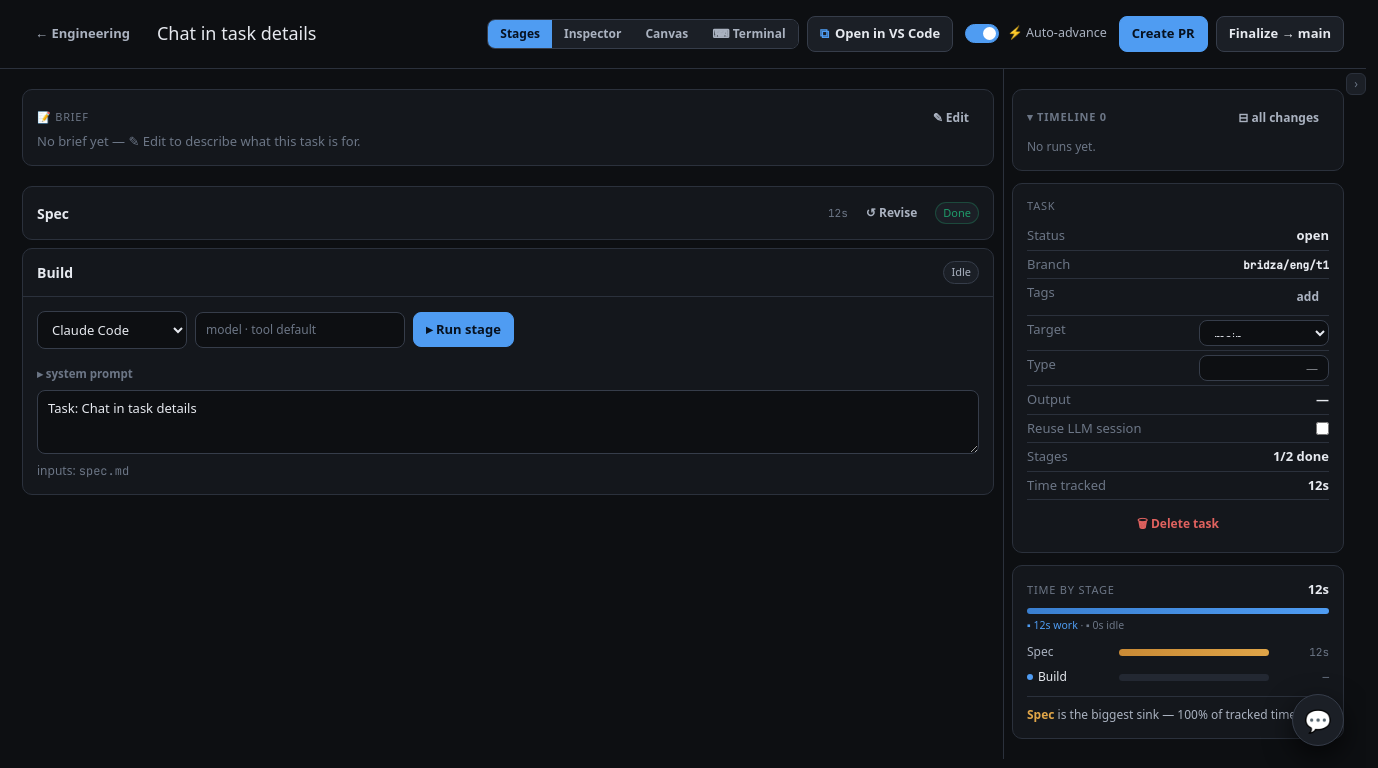
the entry point a non-technical person will find › closing it brings the details rail back, and remembers being open
Click the button with class "chat-bubble" at {"x": 1318, "y": 720}, box [1292,694,1344,746]
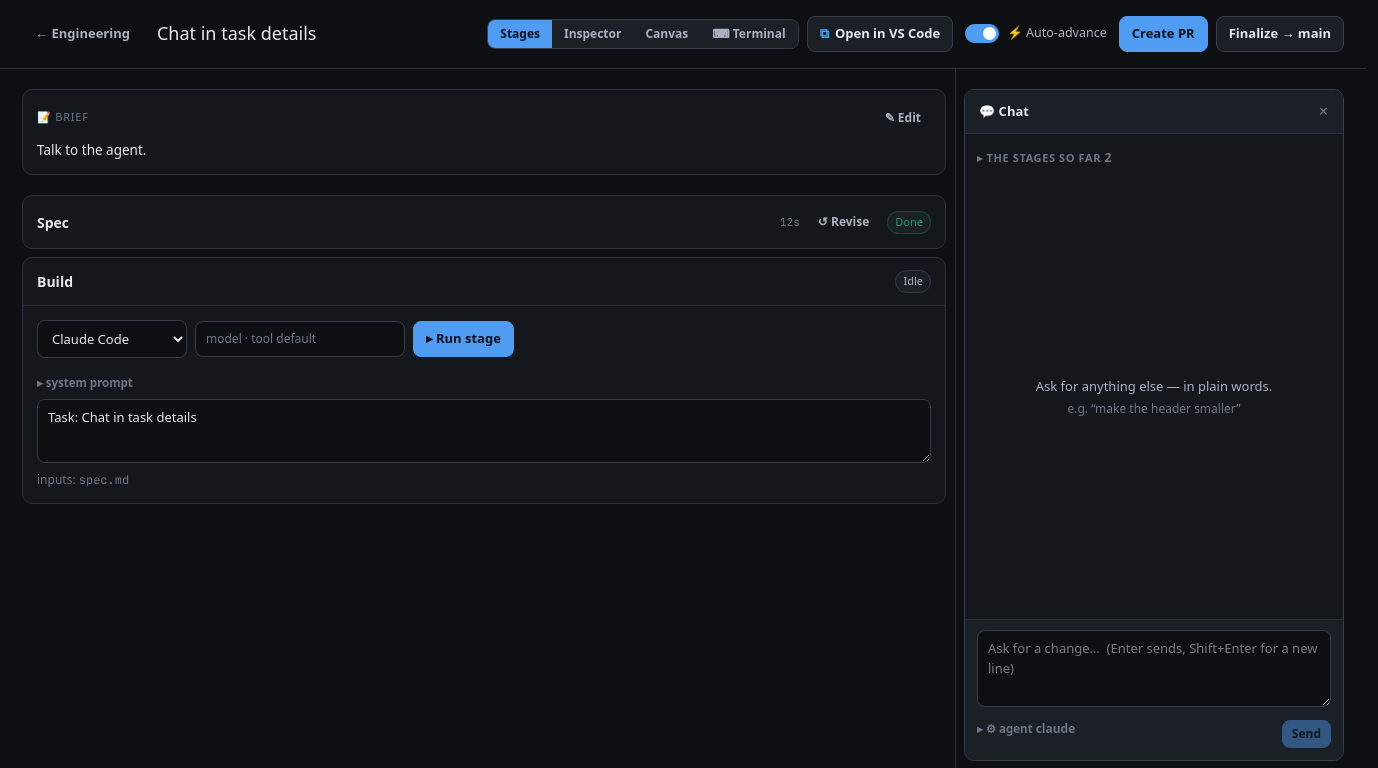
Click the button with class "chat-x" at {"x": 1324, "y": 111}, box [1314,100,1333,123]
(page scrolled)
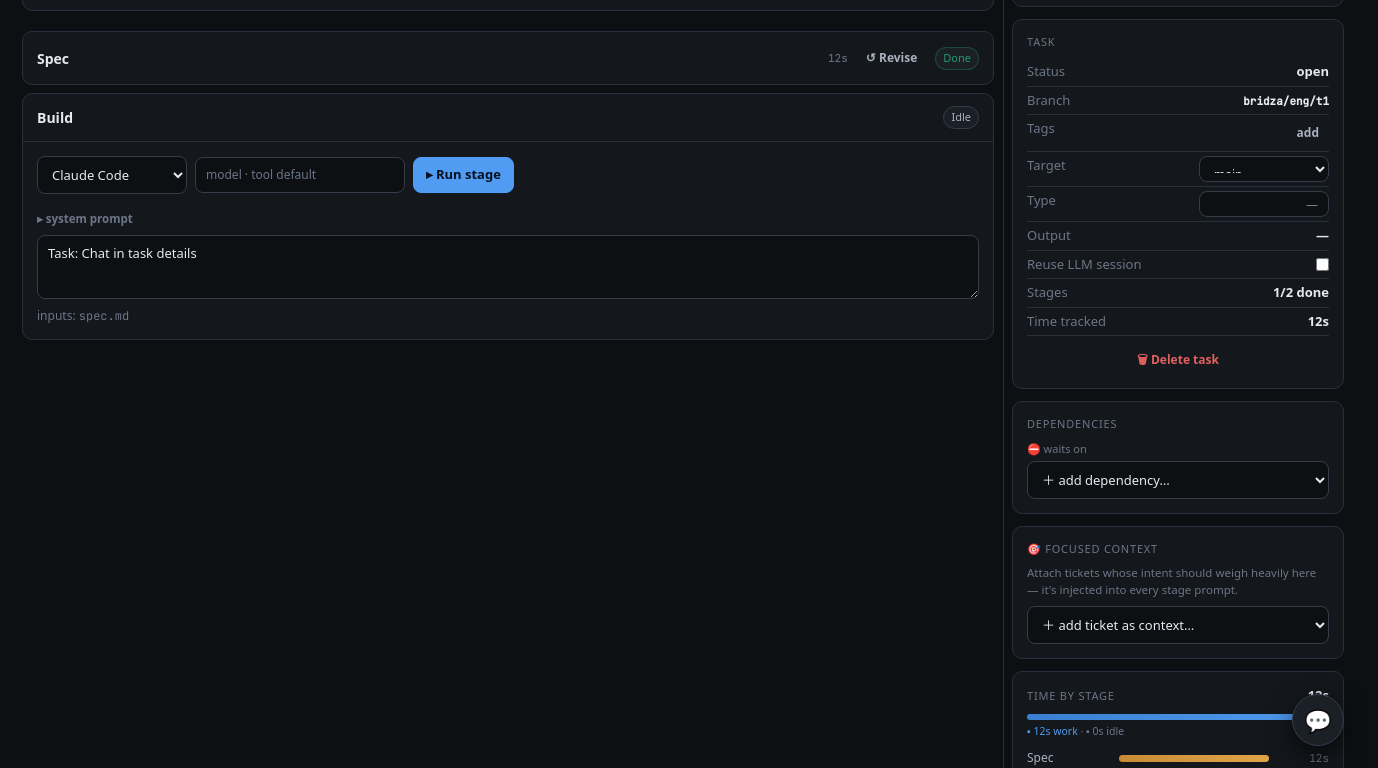
Result: the element with class "chat-panel" is gone
